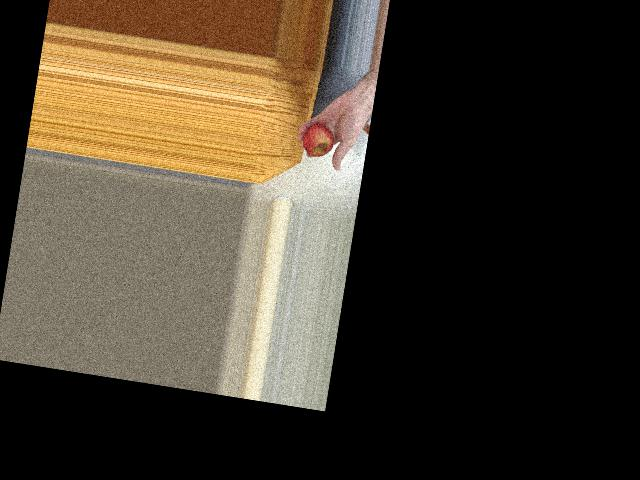apple: (300, 119, 339, 160)
